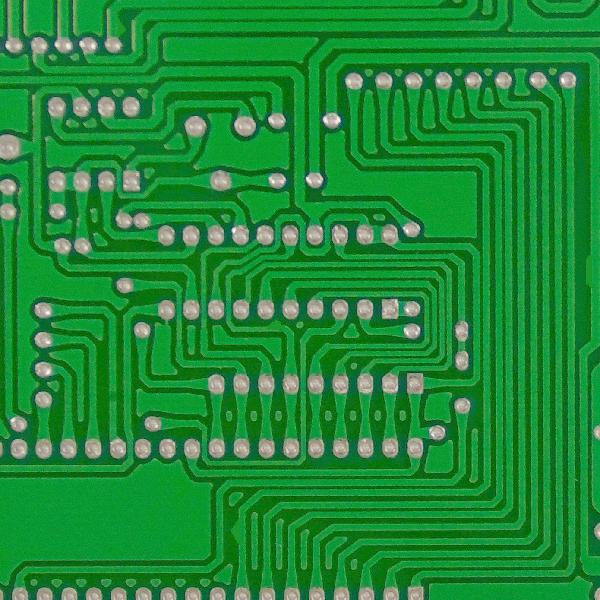spur: (106, 9, 130, 40), (583, 249, 599, 292), (229, 514, 246, 547), (263, 317, 288, 332)
